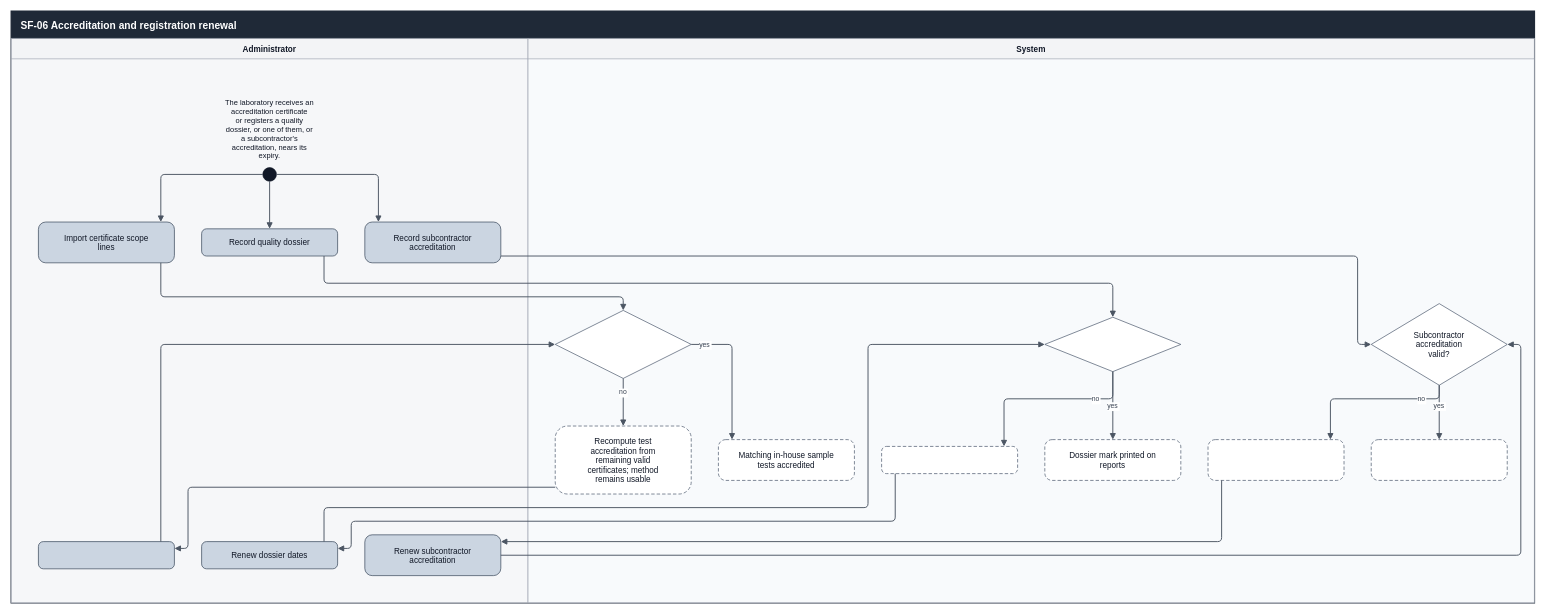
This 1546x614 diagram has some shape labels left out. Each missing label, with the box of its shape:
Certificate valid and active?: (555, 310, 691, 378)
Dossier mark not printed: (881, 446, 1018, 474)
Dossier valid?: (1044, 317, 1181, 372)
Renew certificate dates: (38, 541, 174, 569)
Subcontractor cannot be chosen: (1207, 439, 1344, 480)
Subcontractor selectable if other conditions hold: (1371, 439, 1507, 480)
